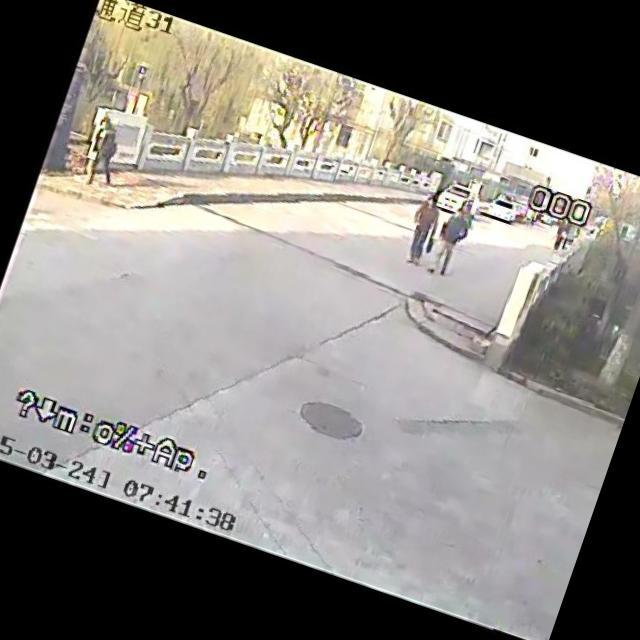person: (381, 175, 453, 280), (68, 100, 140, 194), (420, 199, 485, 283)
